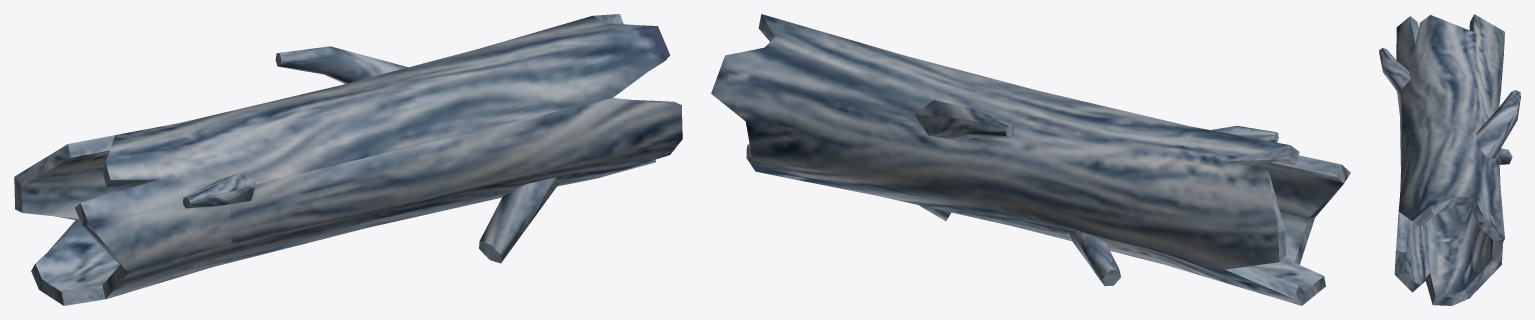
The picture shows the model from 3 angles, left to right: view 1: azimuth 30°, elevation 25°; view 2: azimuth 150°, elevation 25°; view 3: azimuth 270°, elevation 25°; orthographic projection. The views are drawn at different scales.
Parts seen in each view (by area): view 1: wj29; view 2: wj29; view 3: wj29.
Part boxes in pixels (x1,y1,x2,y2): wj29: (14, 14, 682, 305); wj29: (711, 14, 1350, 305); wj29: (1379, 14, 1520, 305).
Size of the model in its own units: 576 by 175 by 167.
1 material, 1 textured.
